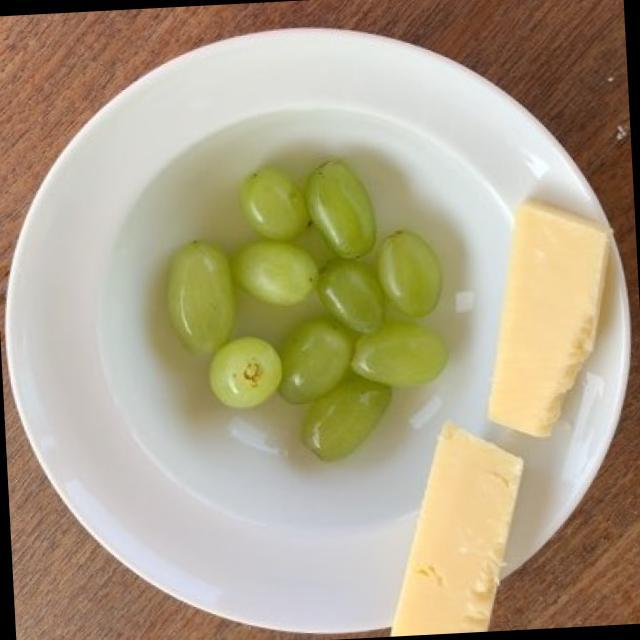Cheese: (475, 198, 620, 443), (378, 424, 536, 636)
Grapes: (152, 150, 452, 462)
